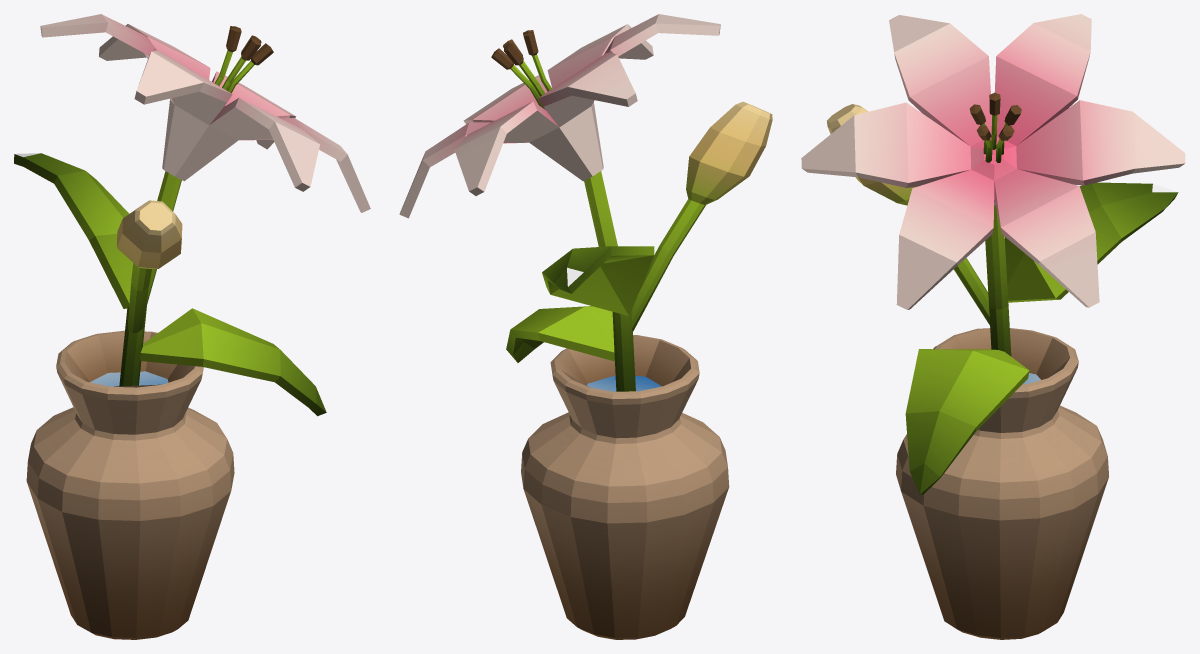
Rendered from lily.fbx.
3 views of the same model, side by side, from view 1: azimuth 30°, elevation 25°; view 2: azimuth 150°, elevation 25°; view 3: azimuth 270°, elevation 25° (orthographic). The views are drawn at different scales.
Visible parts, largest first — view 1: lily; view 2: lily; view 3: lily.
Part boxes in pixels (x1,y1,x2,y2): lily: (14,14,370,639); lily: (399,14,772,639); lily: (801,14,1185,639).
Bounding box in the file's own units: 20.53 × 40.62 × 23.91.
